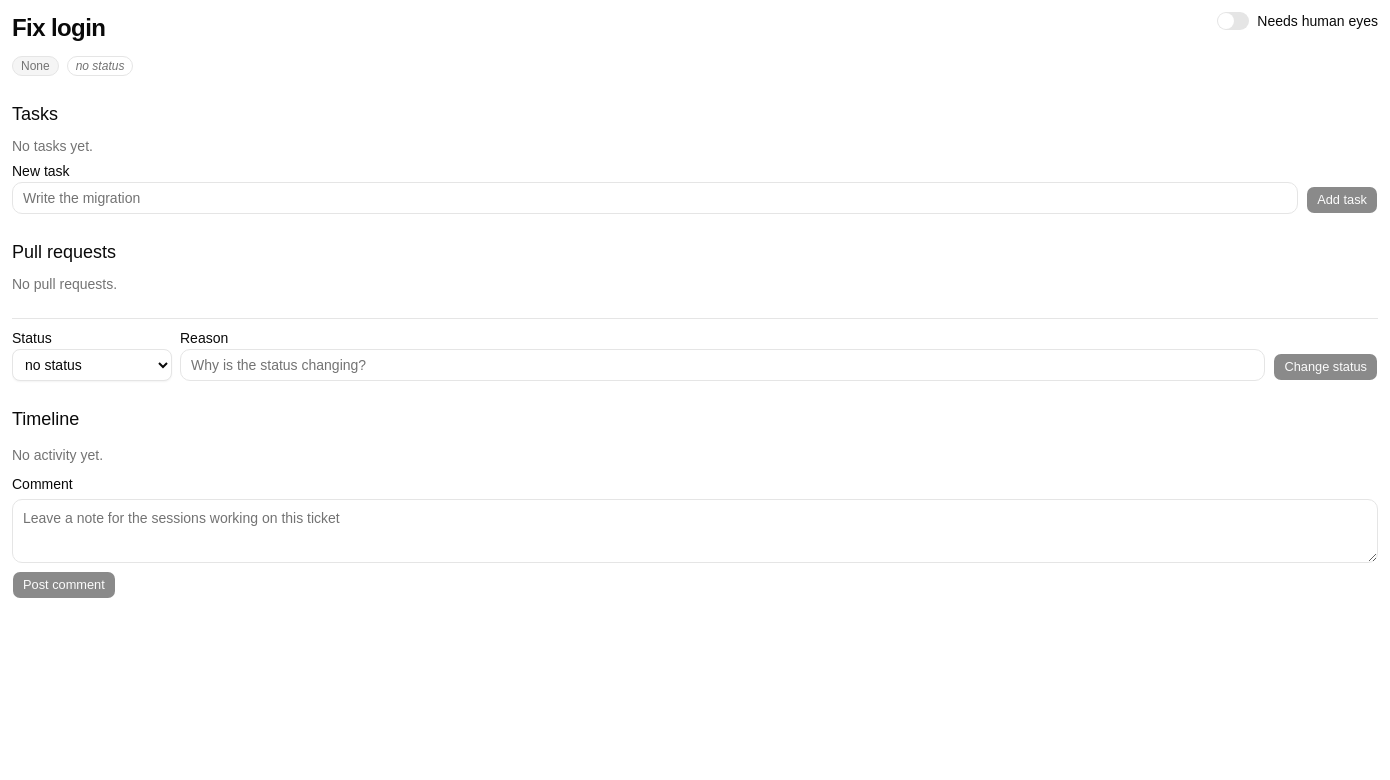
Test: TicketDetailPage › human can toggle needs human eyes
This screenshot has width=1390, height=780.
Expected: the heading "Fix login" is shown, [12,12,105,44]
Click the switch named "needs human eyes": [1233, 21] box [1217,12,1249,30]
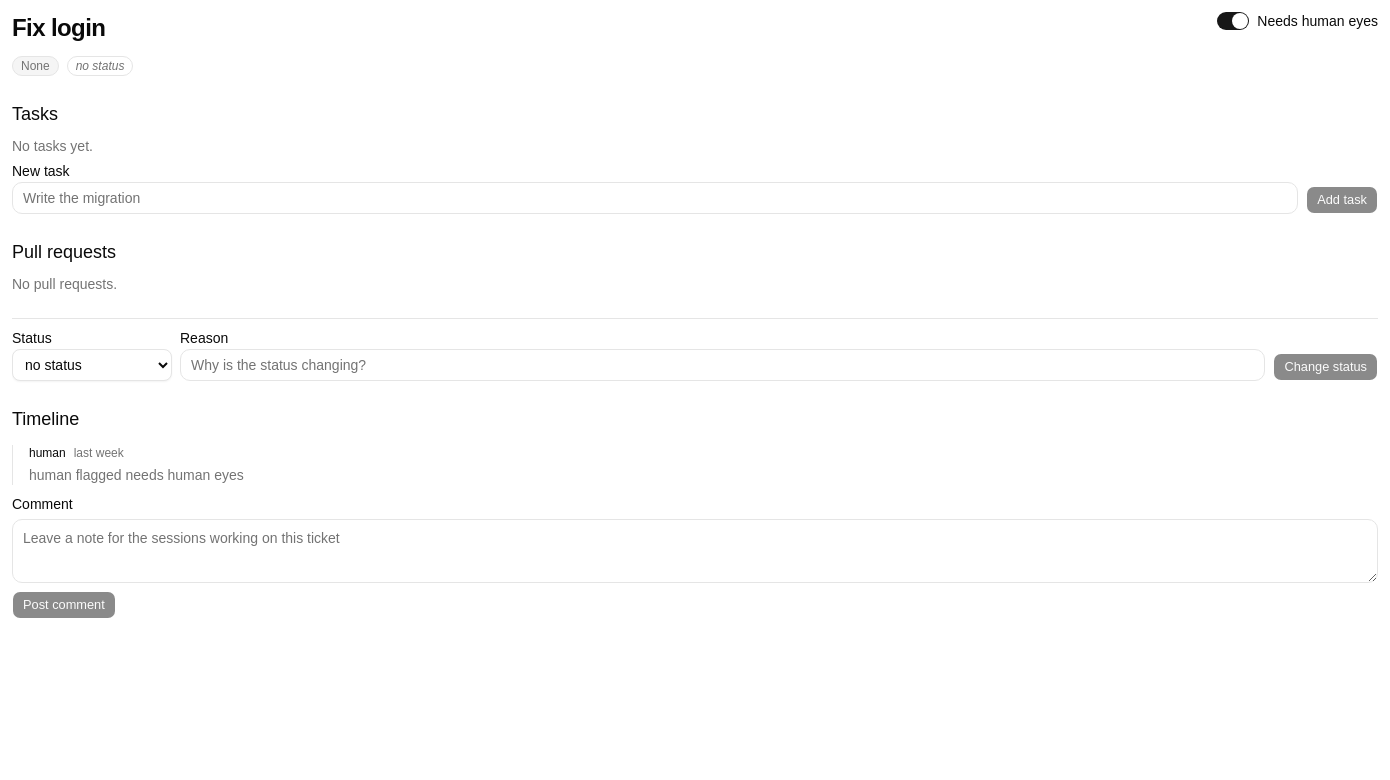
Now the switch named "needs human eyes" is checked, box [1217,12,1249,30]
Now the list item shows "human flagged needs human eyes", box [29,467,244,483]
